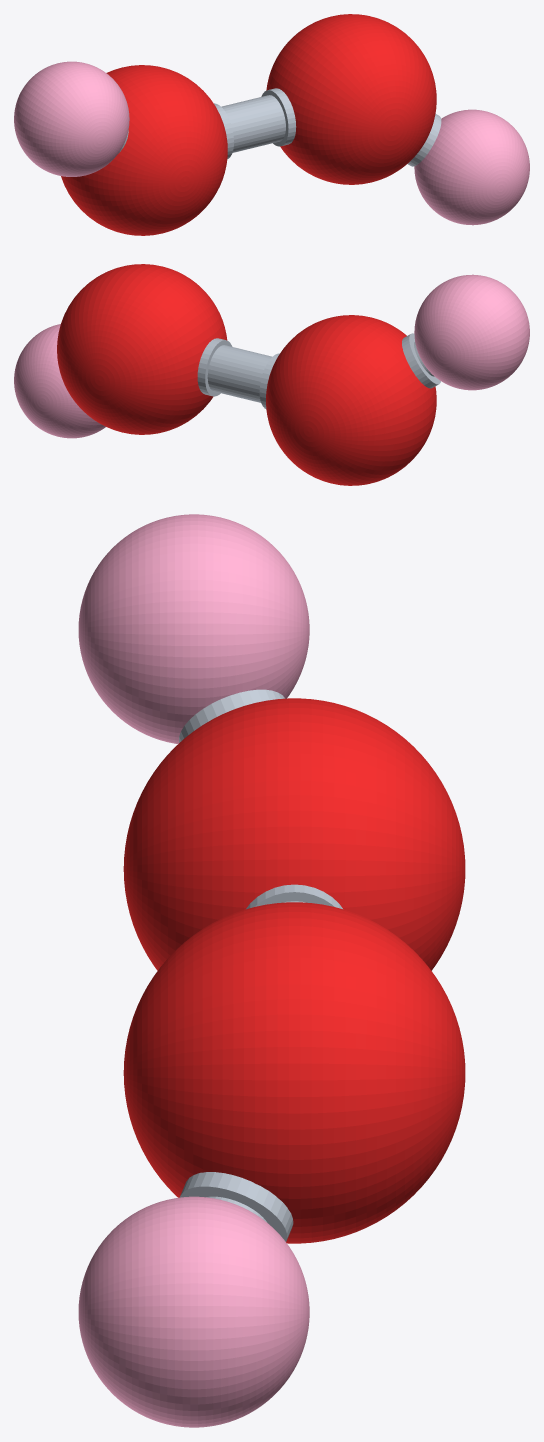
Rendered from hydrogen_peroxide.glb.
3 renders of one model, top to bottom at view 1: azimuth 30°, elevation 25°; view 2: azimuth 150°, elevation 25°; view 3: azimuth 270°, elevation 25°, orthographic. The views are drawn at different scales.
Visible parts, largest first — view 1: Oxygen_2, Oxygen_1, Hydrogen_1, Hydrogen_2, O-O_Bond, Bond_Collar_4, Bond_Collar_2, Bond_Collar_3; view 2: Oxygen_1, Oxygen_2, Hydrogen_1, Hydrogen_2, O-O_Bond, Bond_Collar_1, Bond_Collar_4, Bond_Collar_3; view 3: Oxygen_2, Oxygen_1, Hydrogen_2, Hydrogen_1, Bond_Collar_2, Bond_Collar_1, Bond_Collar_3.
Boxes of the visible parts, x1,y1,x2,y2 form: Oxygen_2: [266, 14, 436, 184]; Oxygen_1: [61, 65, 227, 235]; Hydrogen_1: [14, 61, 129, 176]; Hydrogen_2: [414, 109, 529, 225]; O-O_Bond: [221, 95, 285, 152]; Bond_Collar_4: [261, 88, 296, 146]; Bond_Collar_2: [407, 114, 441, 166]; Bond_Collar_3: [214, 103, 233, 158]; Oxygen_1: [266, 315, 436, 485]; Oxygen_2: [57, 264, 227, 434]; Hydrogen_1: [414, 274, 529, 390]; Hydrogen_2: [14, 324, 105, 438]; O-O_Bond: [207, 345, 272, 402]; Bond_Collar_1: [402, 333, 440, 388]; Bond_Collar_4: [197, 338, 232, 396]; Bond_Collar_3: [259, 353, 279, 408]; Oxygen_2: [123, 902, 465, 1243]; Oxygen_1: [123, 698, 465, 970]; Hydrogen_2: [78, 1196, 309, 1427]; Hydrogen_1: [78, 514, 309, 743]; Bond_Collar_2: [180, 1172, 293, 1241]; Bond_Collar_1: [179, 689, 284, 742]; Bond_Collar_3: [246, 884, 342, 909].
Size of the model in its own units: 2.3 by 1.1 by 0.77.
